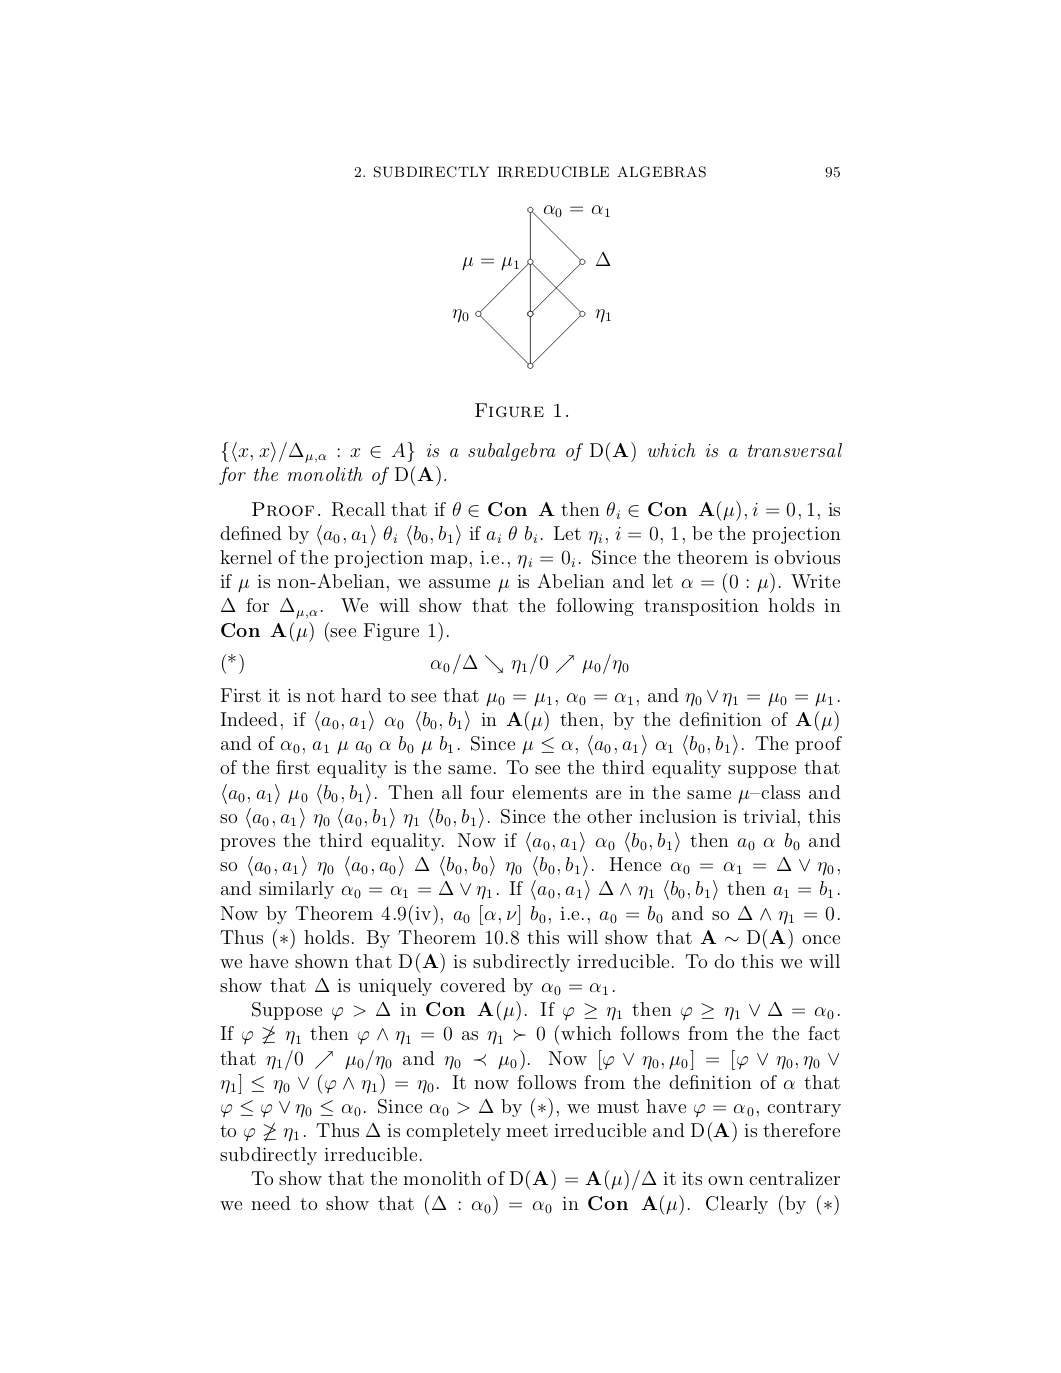figure: (452, 204, 610, 369)
formula: (222, 652, 627, 674)
